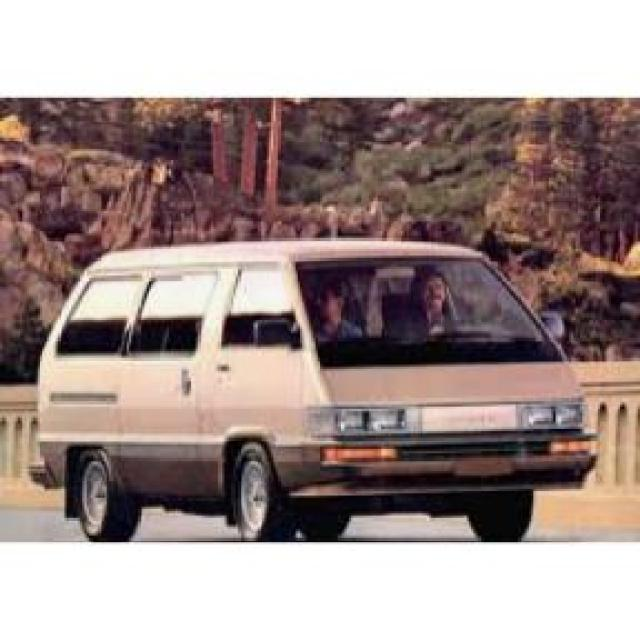Van: (29, 231, 602, 543)
